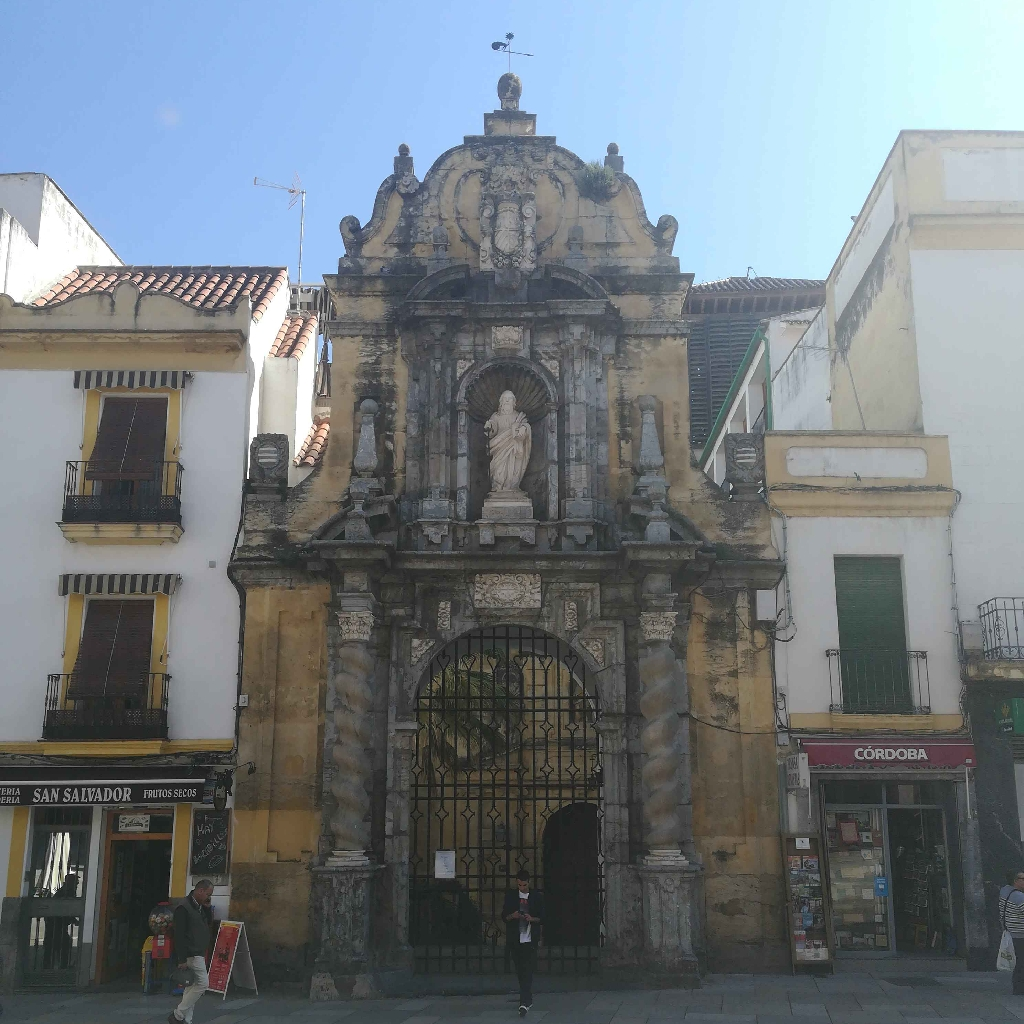arco-medio-punto: (400, 606, 598, 740)
columna-salomonica: (633, 631, 692, 869), (324, 638, 379, 871)
fronton-partido: (305, 498, 707, 576), (401, 258, 604, 315)
